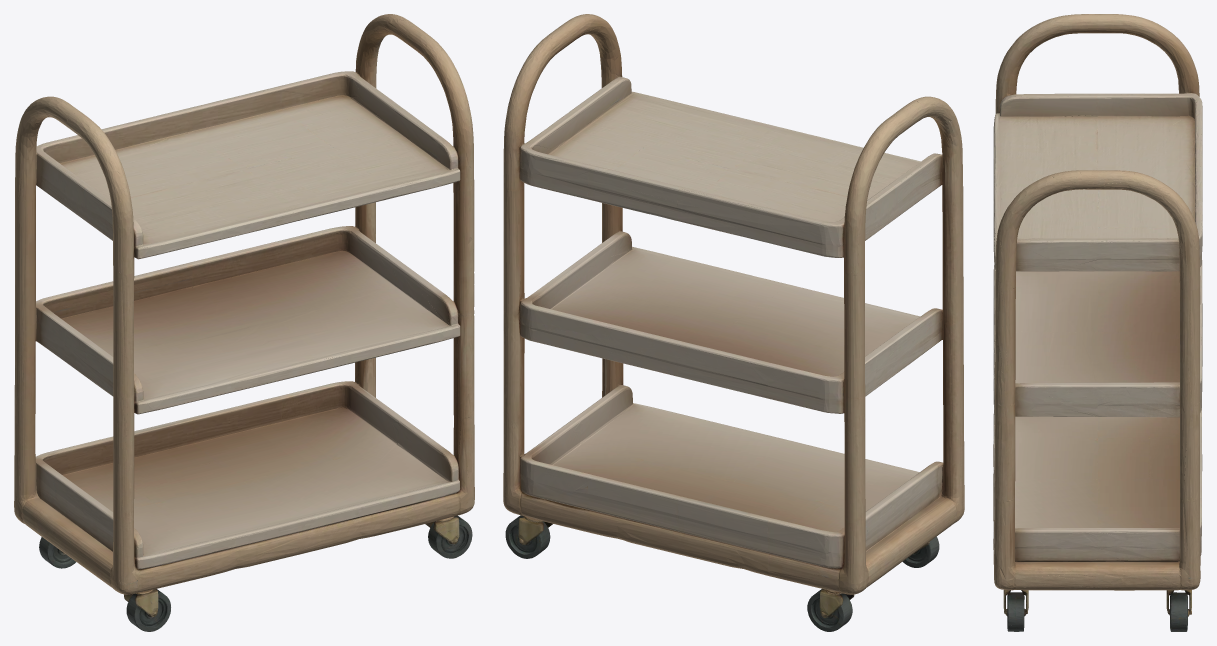
File: library-book-cart.glb
3 renders of one model, left to right at view 1: azimuth 30°, elevation 25°; view 2: azimuth 150°, elevation 25°; view 3: azimuth 270°, elevation 25°, orthographic. The views are drawn at different scales.
Parts seen in each view (by area): view 1: world; view 2: world; view 3: world.
Part boxes in pixels (x1,y1,x2,y2): world: (14,14,474,631); world: (503,14,964,631); world: (993,14,1202,631).
Bounding box in the file's own units: 0.7618 × 0.9999 × 0.4095.
1 material, 1 textured.
